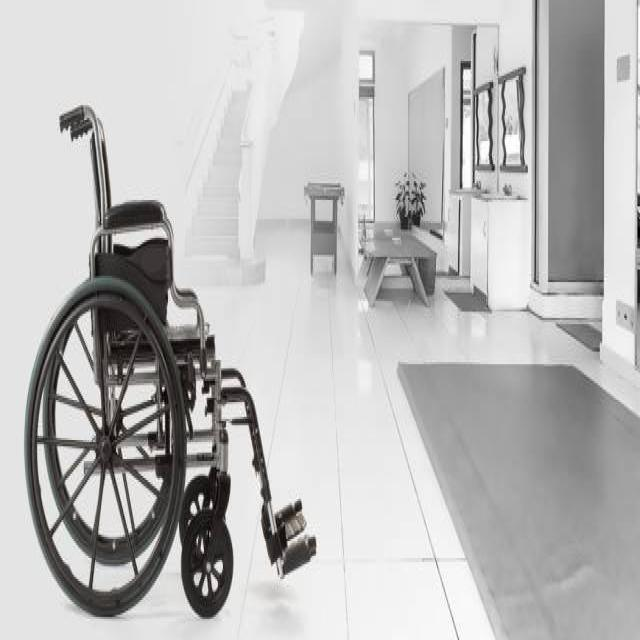wheelchairs: (18, 90, 320, 627)
